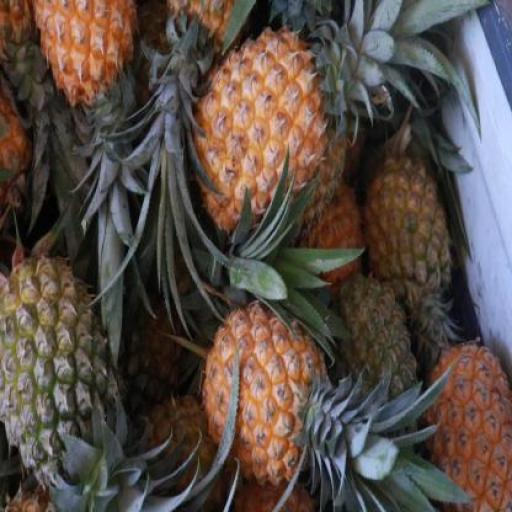------------------------------: (0, 253, 119, 476), (362, 154, 448, 326)
Pineapple - v8 v1: (192, 31, 342, 226), (206, 299, 326, 484), (426, 336, 512, 512)
